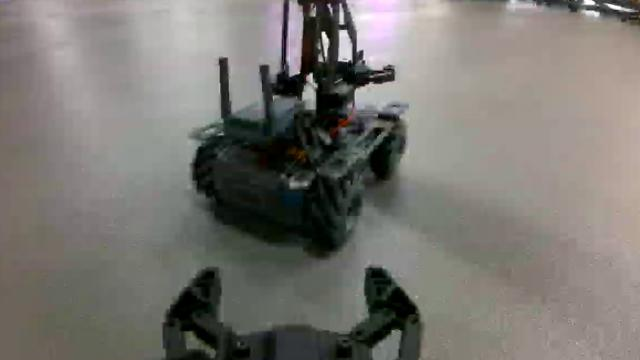robot: (187, 0, 411, 254)
